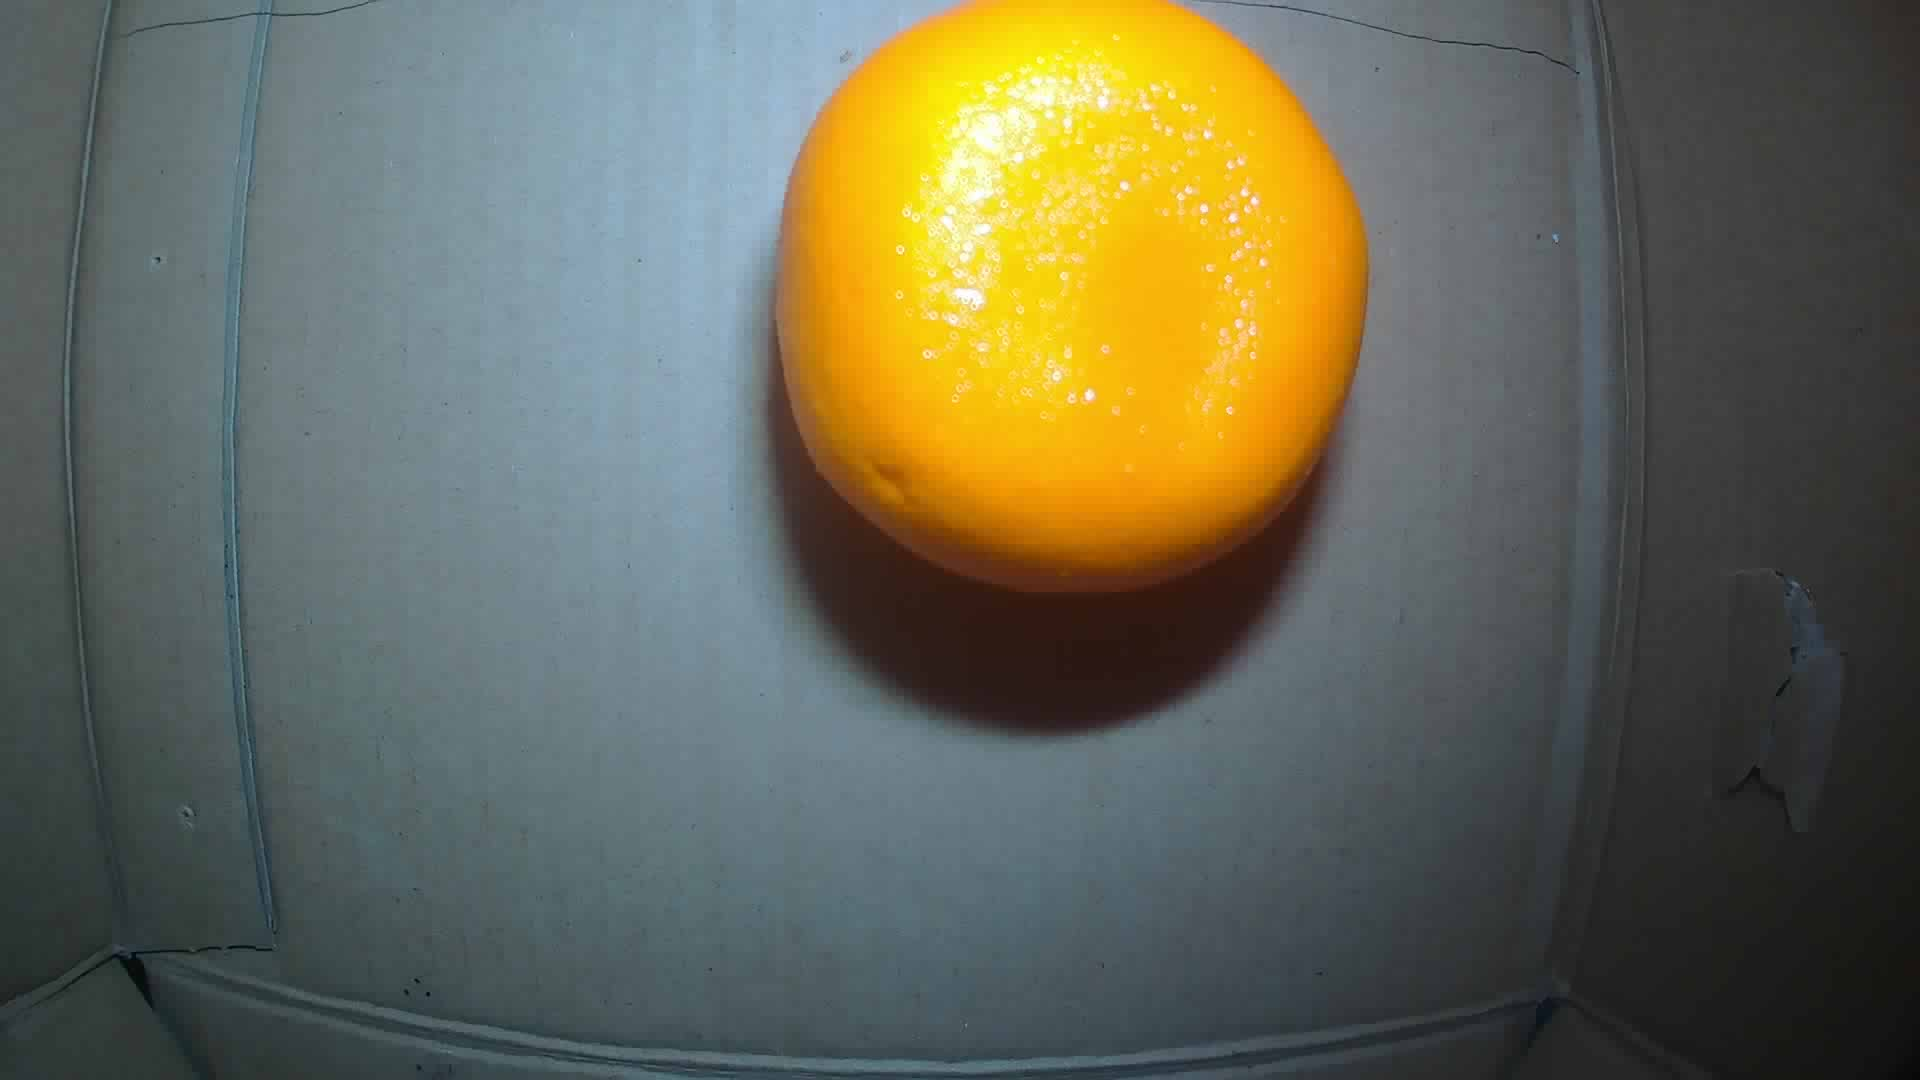orange: (771, 1, 1364, 593)
